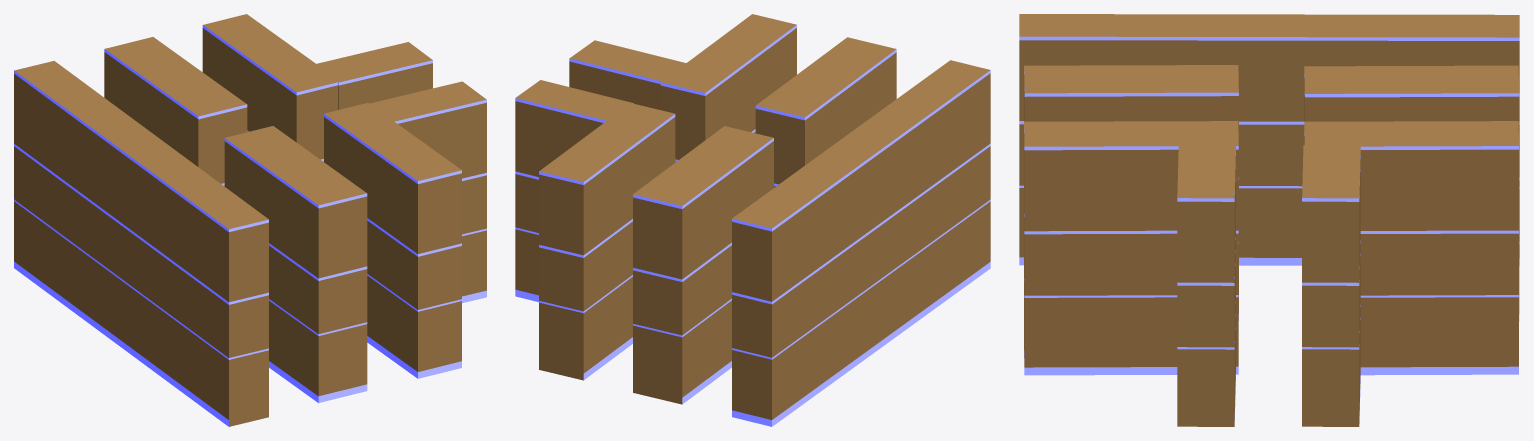
The model's file is mapa1.glb.
3 views of the same model, side by side, from view 1: azimuth 30°, elevation 25°; view 2: azimuth 150°, elevation 25°; view 3: azimuth 270°, elevation 25° (orthographic). The views are drawn at different scales.
Parts seen in each view (by area): view 1: wall_1_, wall_1_.006, wall_1_.001, wall_1_.005, wall_1_.004, wall_1_.003, wall_1_.002; view 2: wall_1_, wall_1_.005, wall_1_.004, wall_1_.006, wall_1_.001, wall_1_.002, wall_1_.003; view 3: wall_1_.004, wall_1_.001, wall_1_, wall_1_.003, wall_1_.002, wall_1_.006, wall_1_.005.
Part boxes in pixels (<box>): wall_1_: <box>14,61,268,426</box>; wall_1_.006: <box>224,126,367,402</box>; wall_1_.001: <box>324,103,461,378</box>; wall_1_.005: <box>104,37,247,186</box>; wall_1_.004: <box>202,14,340,161</box>; wall_1_.003: <box>368,81,486,303</box>; wall_1_.002: <box>315,42,432,109</box>; wall_1_: <box>732,60,990,426</box>; wall_1_.005: <box>633,126,773,404</box>; wall_1_.004: <box>539,103,675,380</box>; wall_1_.006: <box>755,37,896,187</box>; wall_1_.001: <box>660,14,796,162</box>; wall_1_.002: <box>515,80,633,302</box>; wall_1_.003: <box>569,40,686,109</box>; wall_1_.004: <box>1304,121,1518,375</box>; wall_1_.001: <box>1024,121,1238,375</box>; wall_1_: <box>1019,14,1519,265</box>; wall_1_.003: <box>1177,145,1235,426</box>; wall_1_.002: <box>1302,145,1360,426</box>; wall_1_.006: <box>1024,65,1238,320</box>; wall_1_.005: <box>1304,65,1519,321</box>.
Size of what is drawn, in the model's own units: 27.67 by 16 by 31.74.
